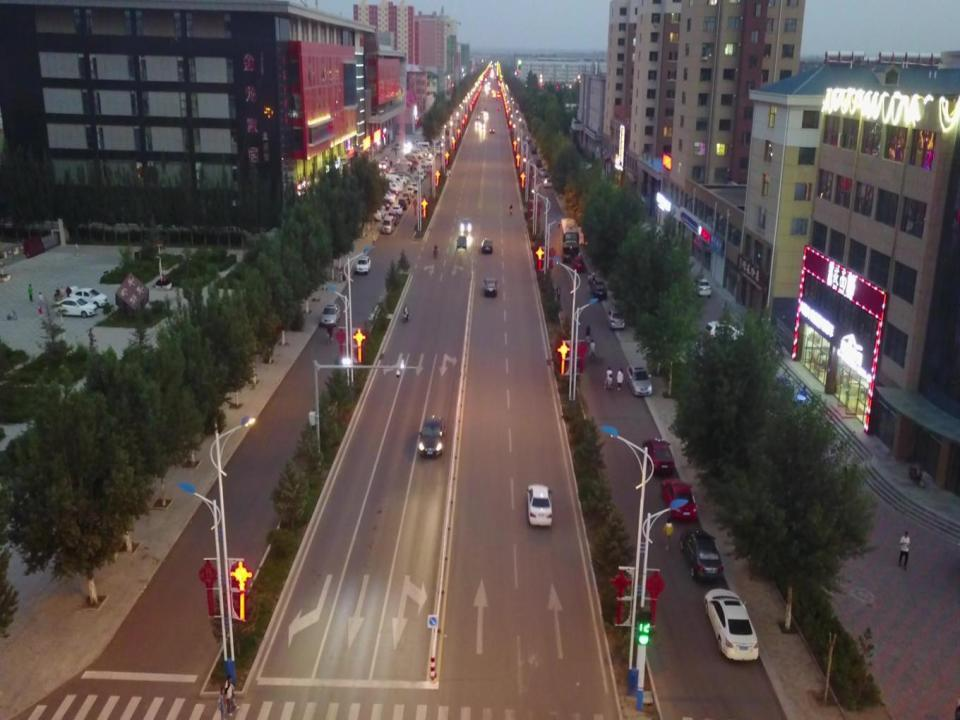bus: (558, 216, 578, 262)
car: (678, 526, 723, 582), (661, 478, 698, 523), (642, 437, 674, 476), (418, 415, 445, 457), (526, 484, 553, 526), (705, 319, 746, 343), (54, 296, 98, 318), (68, 285, 108, 308), (626, 365, 652, 396), (320, 304, 340, 327), (606, 309, 624, 329), (694, 278, 711, 298), (590, 282, 607, 300), (482, 276, 497, 296), (355, 256, 371, 274), (387, 211, 400, 227), (572, 255, 584, 272), (480, 238, 492, 254), (459, 218, 472, 232), (455, 236, 467, 250), (391, 204, 402, 218)
van: (362, 209, 382, 221), (382, 216, 393, 234)
